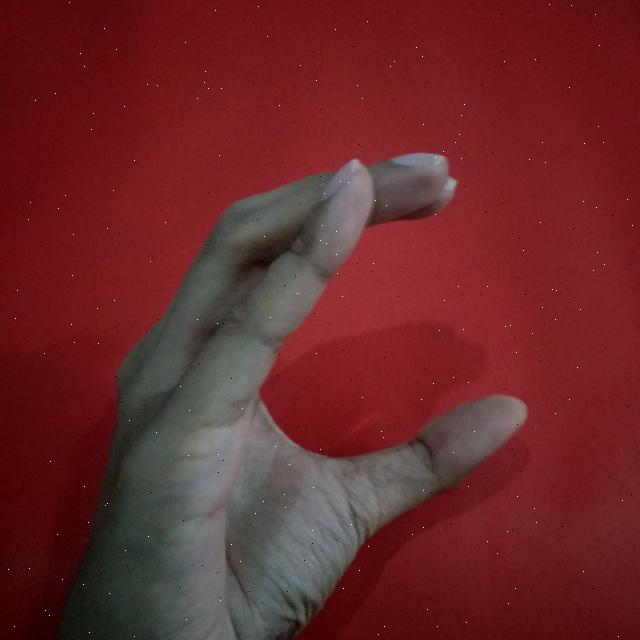C: (57, 153, 528, 640)
